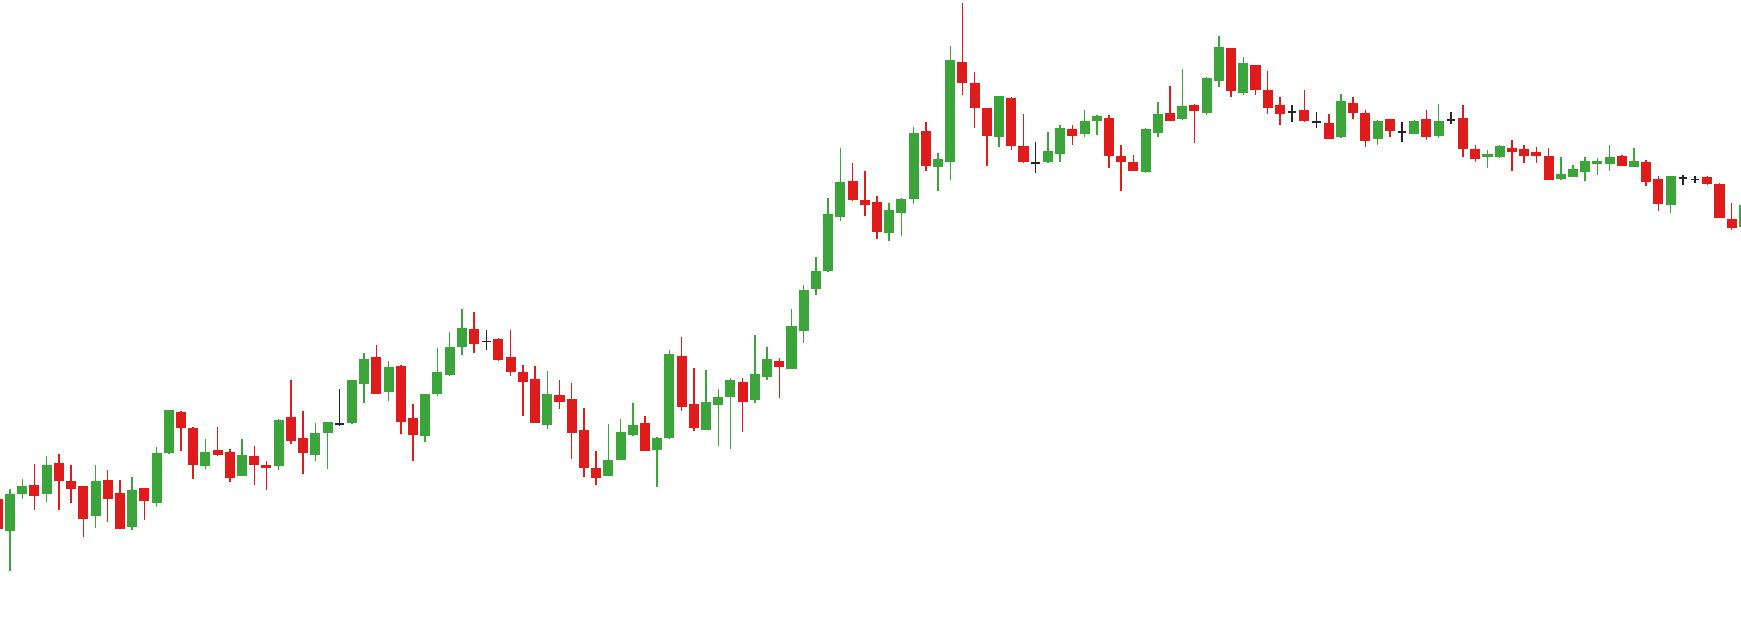buy: (1030, 130, 1154, 193)
sell: (358, 311, 481, 388)
